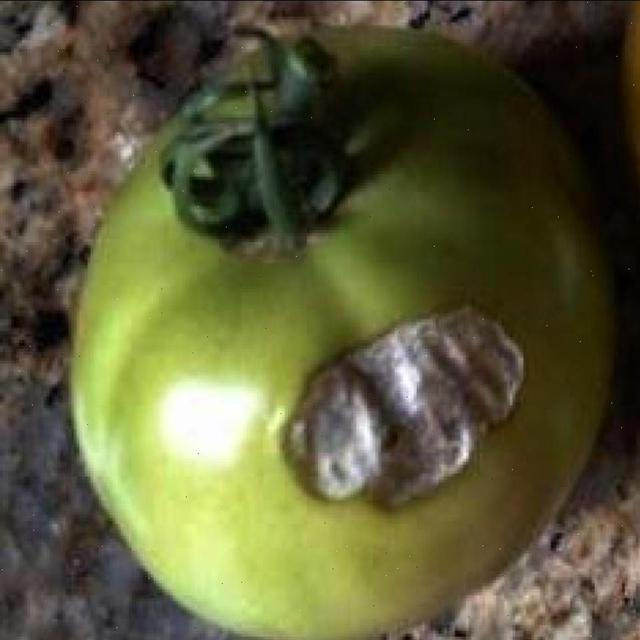Sunscald Fruit: (171, 208, 355, 353)
